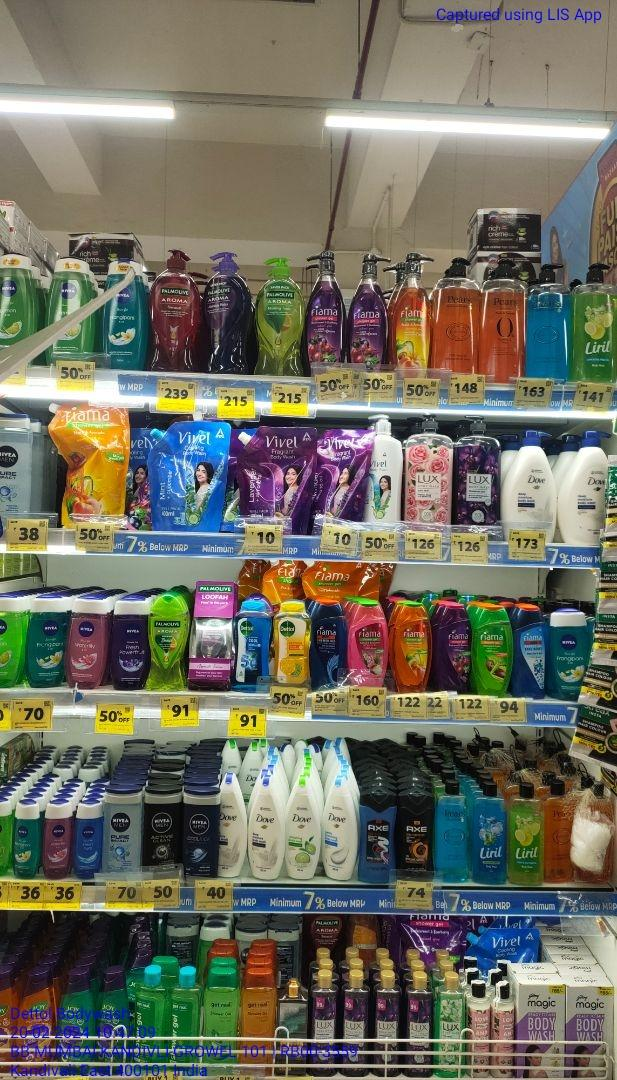Dettol_Bodywash_Cool: (237, 600, 268, 692)
Dettol_Bodywash_Refresh: (274, 602, 308, 685)
Dove_Deep_Moisture_Body_Wash_250ML: (248, 785, 283, 879), (221, 773, 246, 877)
Dove_Gentle_Exfoliating_Body_Wash_250ML: (323, 778, 358, 879)
Dove_Refreshing_Body_Wash_250ML: (285, 783, 320, 881)
Fiama_Shower_Gel_Lemongrass_and_Jojoba_250ML: (472, 602, 513, 696)
Fiama_Shower_Gel_Patchouli_and_Macadamia_250ML: (348, 597, 389, 686)
Fiama_Shower_Gel_Peach_and_Avocado_250ML: (392, 601, 431, 690)
Get_Real_Shower_Gel_Moisturising_Glycerin_300ML: (240, 968, 276, 1066)
Joy_Shower_Gel_Mandarin_and_Lemongrass_250ML: (18, 966, 53, 1071)
Joy_Shower_Gel_Mint_and_Eucalyptus_250ML: (58, 974, 95, 1070), (97, 970, 131, 1070)
Liril_Cooling_Mint_Body_Wash_250ML: (472, 779, 506, 884)
Liril_Lime_and_Tea_Tree_Oil_Body_Wash_250ML: (510, 782, 544, 886)
Lux_Black_Orchid_Scent_and_Juniper_Oil_Body_Wash_245ML: (309, 970, 337, 1077), (343, 976, 371, 1076), (406, 970, 432, 1077), (373, 974, 400, 1077)
Lux_Body_Wash_Skin_Detox_Freesia_Scent_and_Alove_Vera_245ML: (434, 975, 467, 1077)
Nivea_Shower_Gel_Frangipani_and_Oil_250ML: (103, 288, 147, 367), (29, 602, 67, 686), (548, 606, 583, 690), (13, 804, 41, 876)
Nivea_Shower_Gel_Fresh_Powerfruit_250ML: (109, 600, 148, 689)
Nivea_Shower_Gel_Lemon_and_Oil_250ML: (0, 253, 35, 342)
Nivea_Shower_Gel_Waterlily_and_Oil_250ML: (69, 597, 106, 687), (44, 804, 70, 879)
Pears_Pure_Glycerin_and_Mint_Extracts_Body_Wash_250ML: (436, 781, 470, 880)
